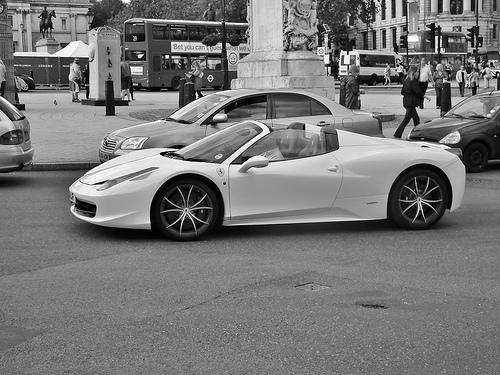car: (73, 118, 465, 242)
